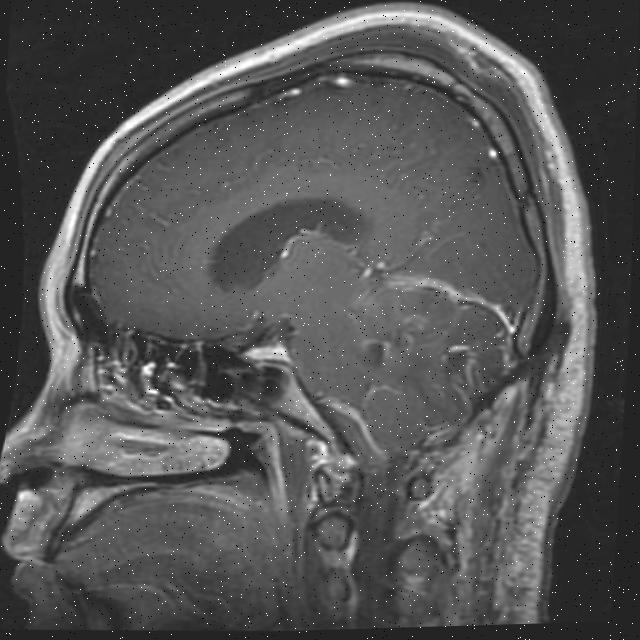Glioma: (355, 275, 462, 374)
